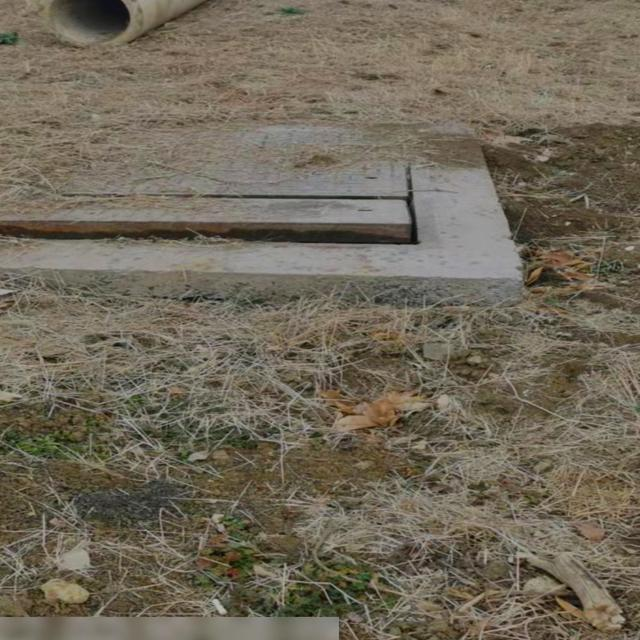uncovered: (0, 119, 436, 254)
